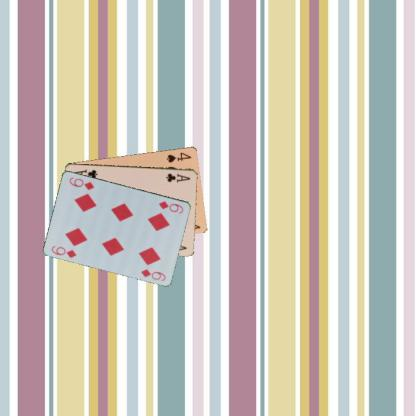4s: (164, 150, 192, 164)
6d: (156, 198, 185, 214), (49, 243, 78, 259)
Ac: (164, 170, 191, 184)
